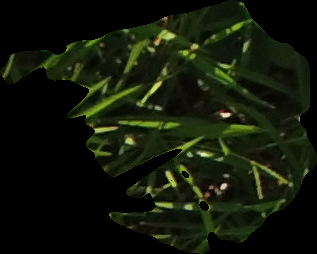grass: (1, 1, 316, 252)
